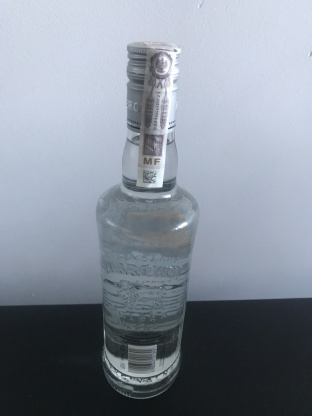nakretka: (123, 36, 183, 136)
